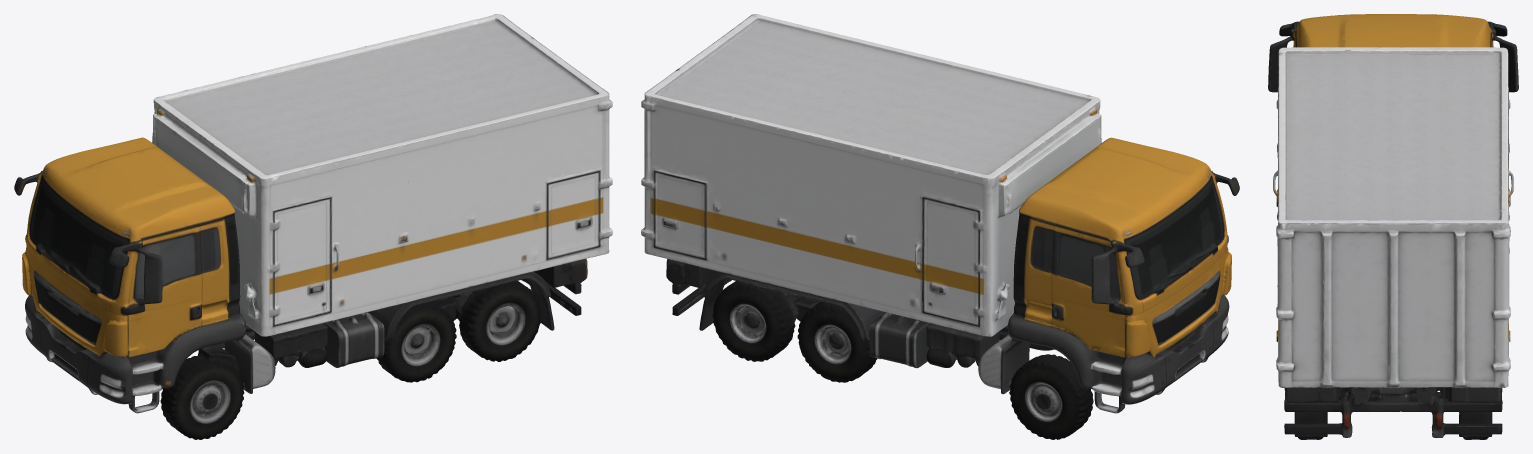
Rendered from volvo-fmx-rigid.glb.
3 views of the same model, side by side, from view 1: azimuth 30°, elevation 25°; view 2: azimuth 150°, elevation 25°; view 3: azimuth 270°, elevation 25° (orthographic). The views are drawn at different scales.
Size of the model in its own units: 1.9 by 0.923 by 0.8042.
Materials: 1 (1 with a texture image).
